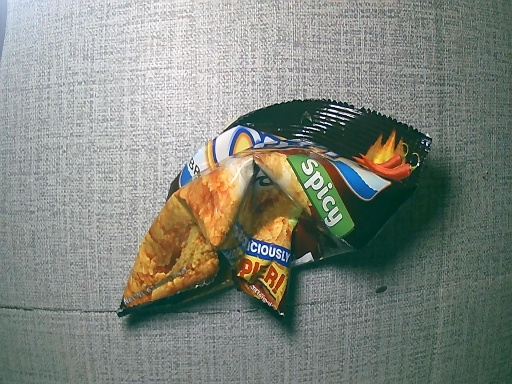plastic: (115, 107, 449, 317)
